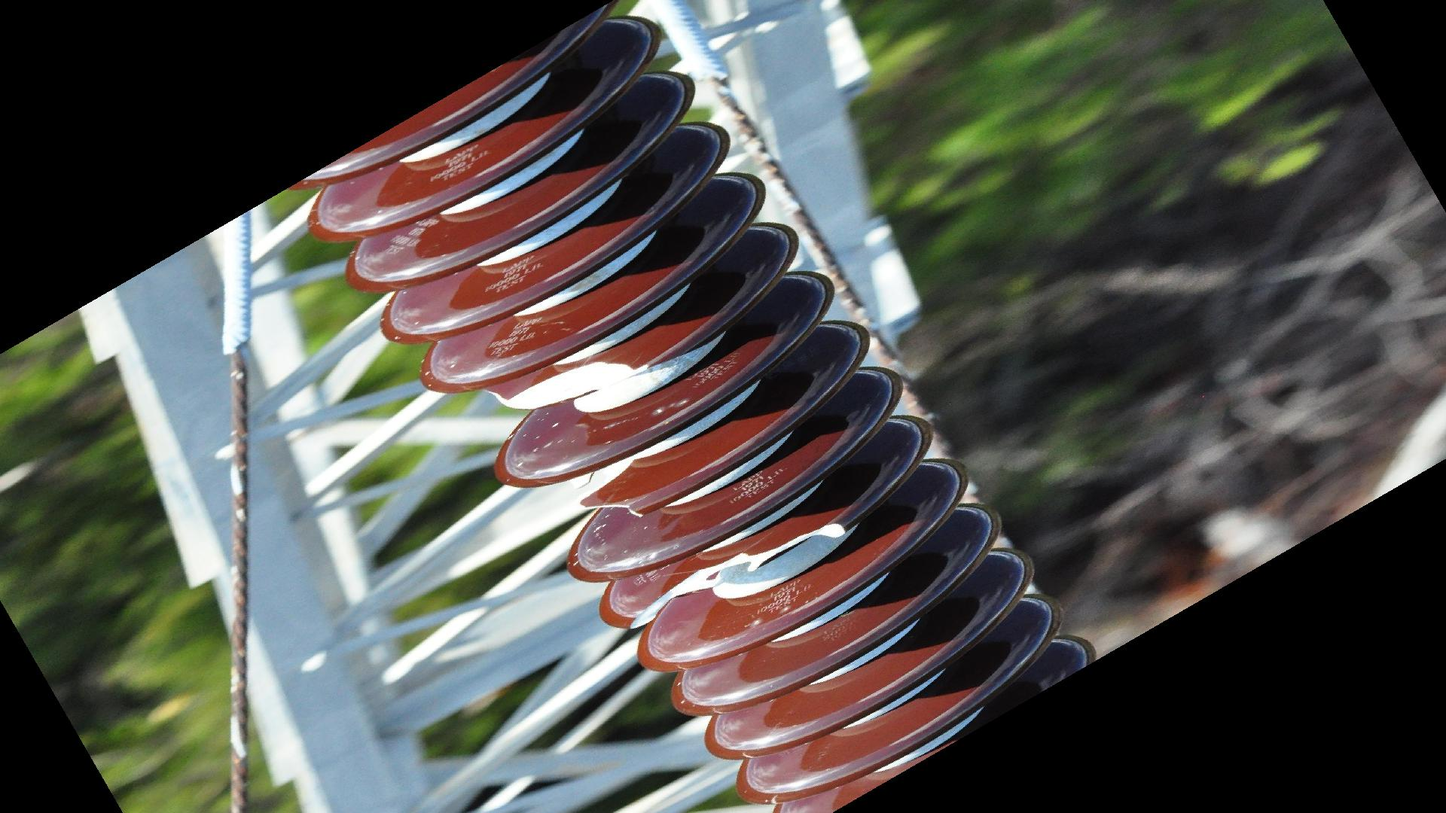insulator: (279, 1, 1103, 813)
insulator_breakage: (621, 513, 850, 635), (476, 348, 656, 416), (569, 452, 650, 524)
